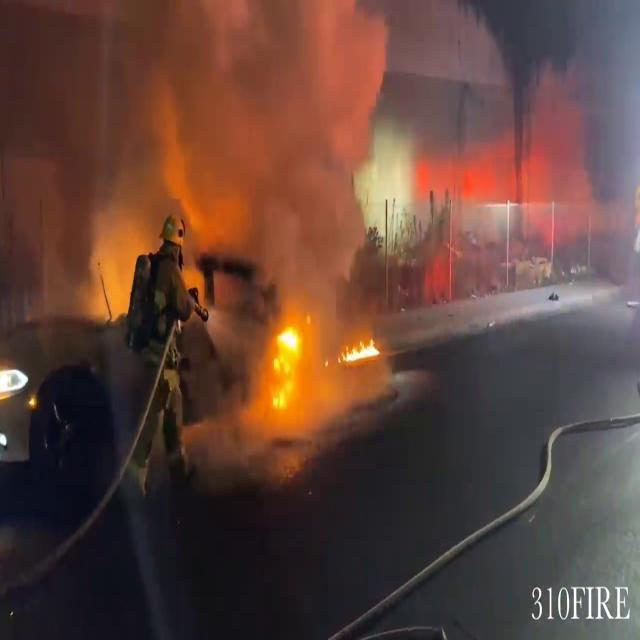Fire: (266, 314, 306, 408), (338, 330, 384, 371)
Smoke: (0, 0, 398, 307)
